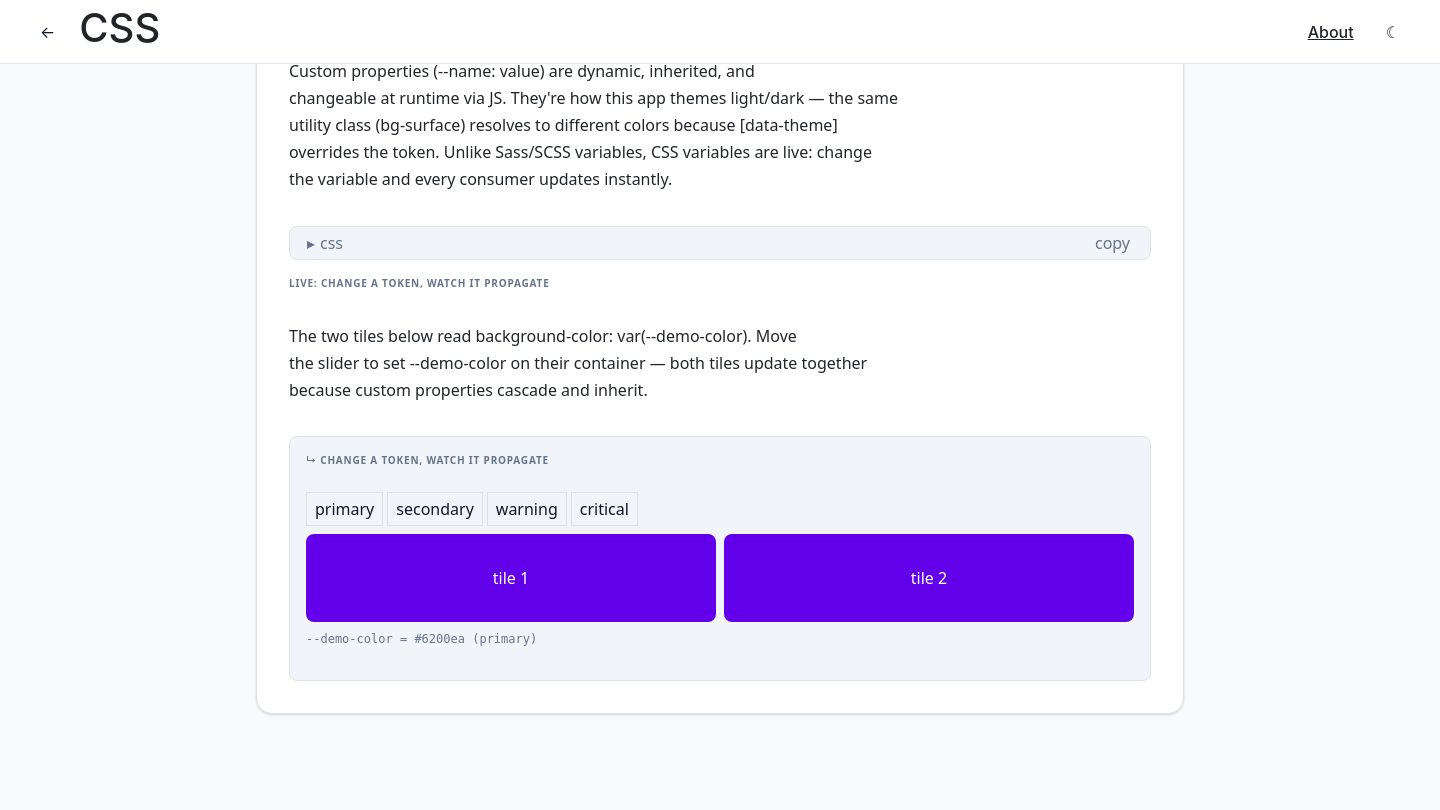
CSS screen › custom-property demo propagates the token to both tiles
This screenshot has width=1440, height=810.
(page scrolled)
Check: the number of elements with test id "cp-tile" is 2, box [306,534,716,622]; [724,534,1134,622]
Click the button "warning".
click(527, 509)  # box [487,492,567,526]
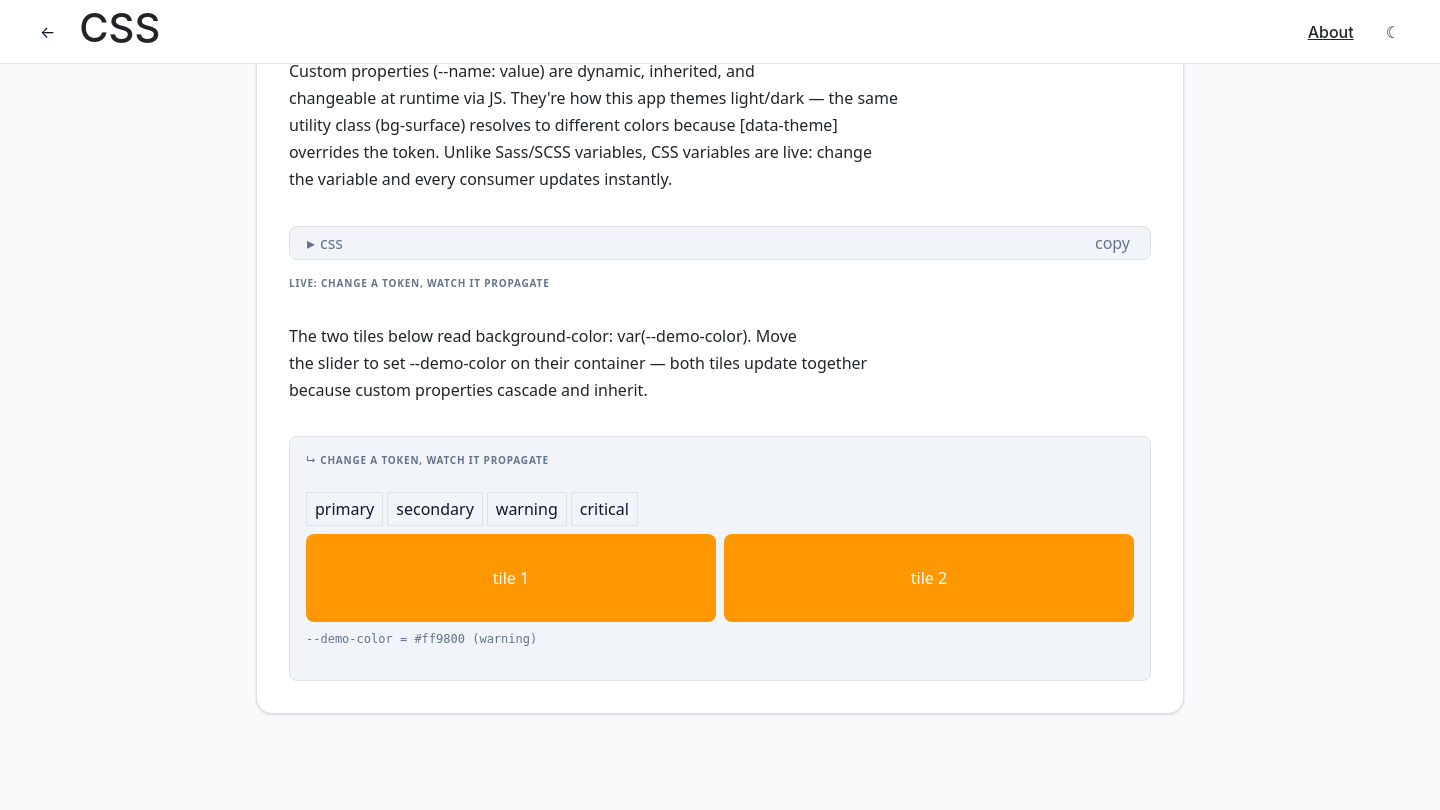
Check: the text "--demo-color = #ff9800 (warning)" is shown, box [306,632,537,646]
